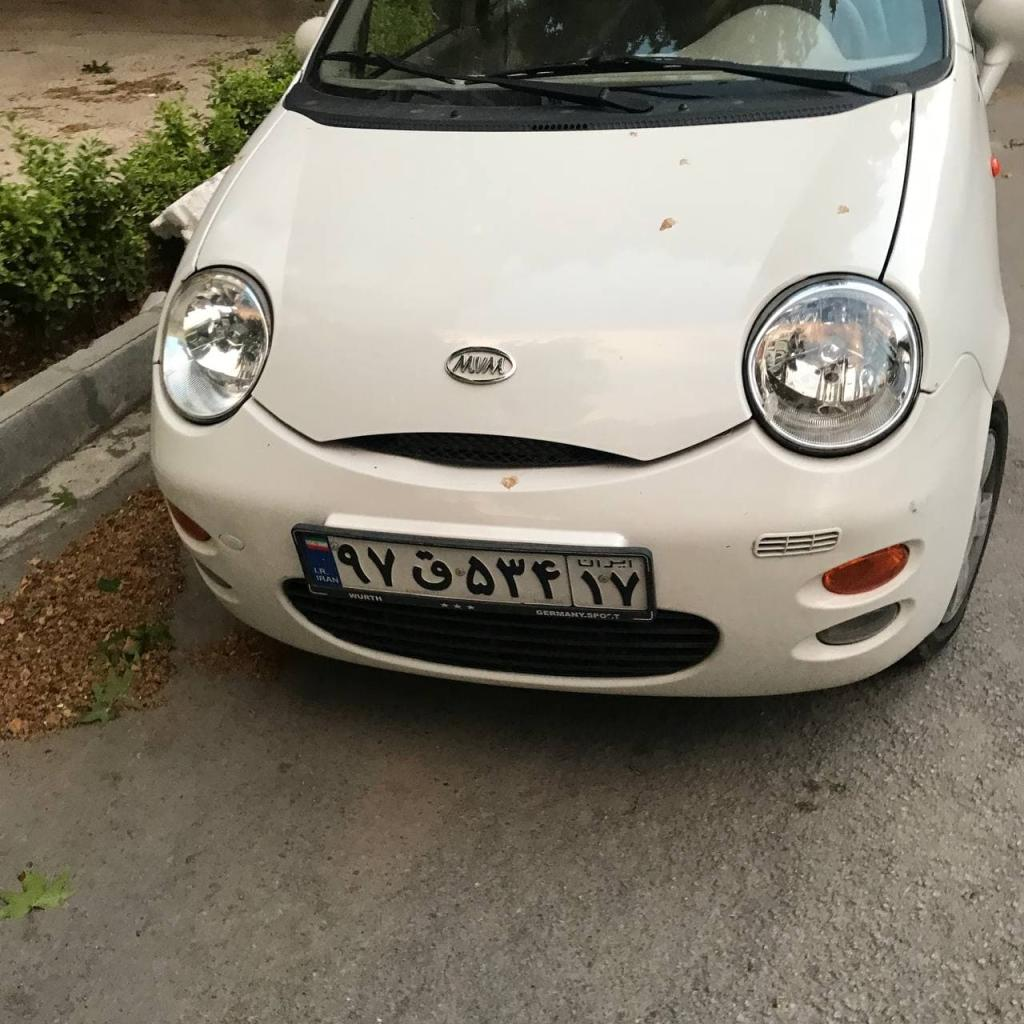Plates: (295, 536, 647, 612)
